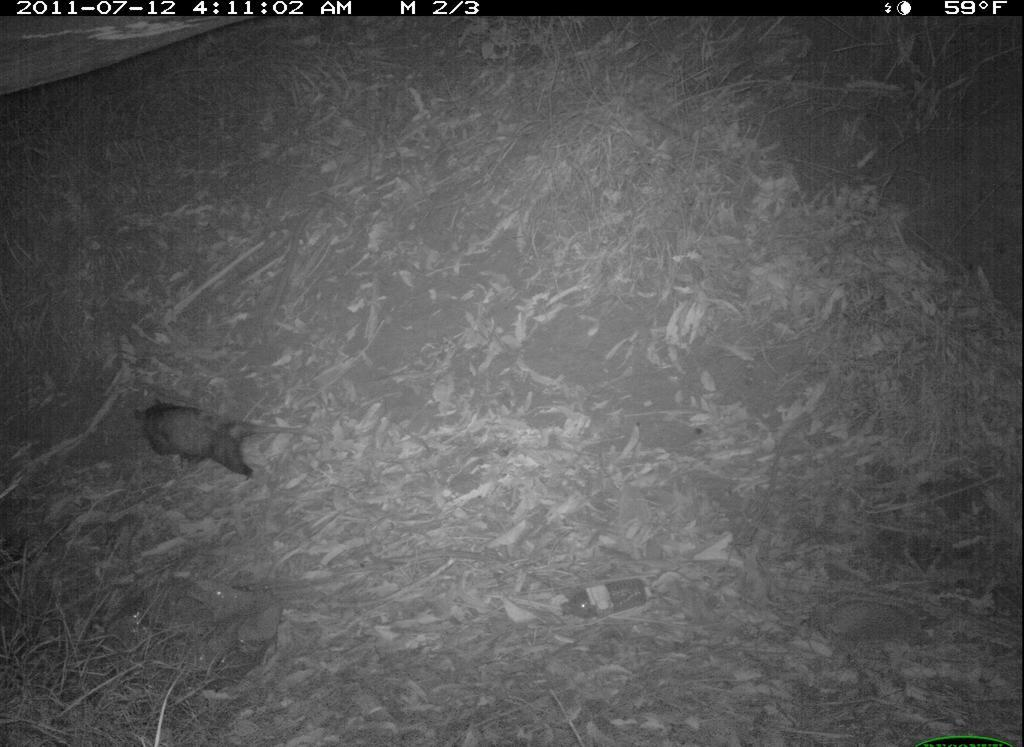opossum: (130, 396, 319, 484)
